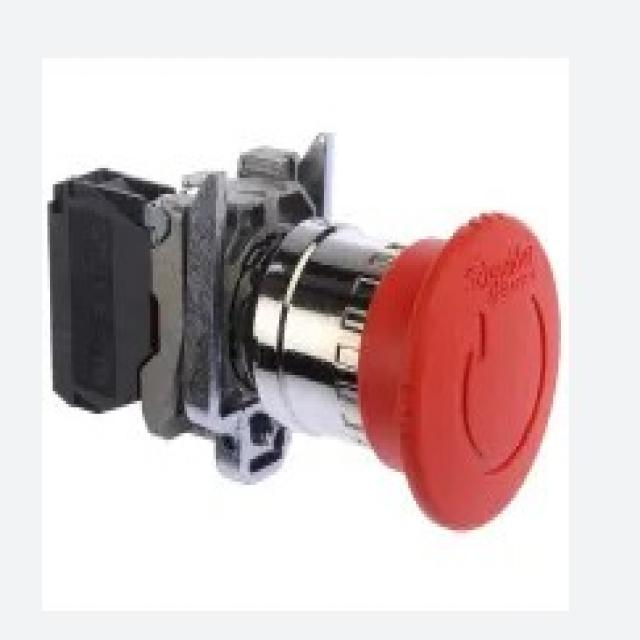safety switch: (279, 215, 562, 527)
